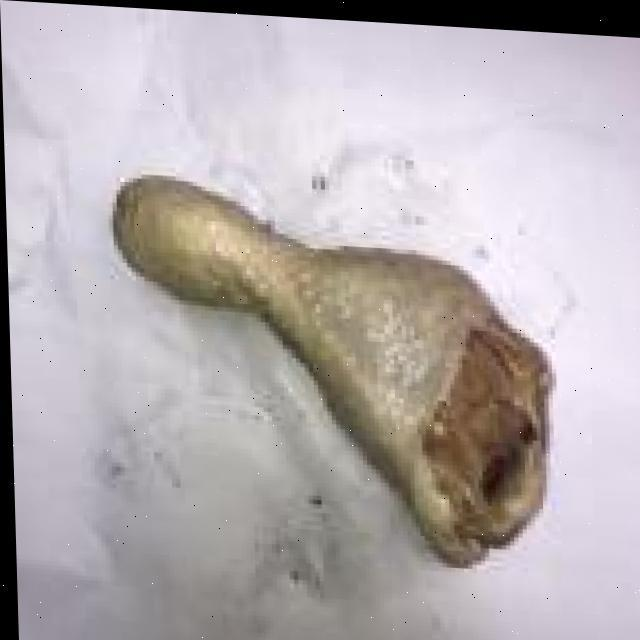leg: (119, 158, 566, 558)
